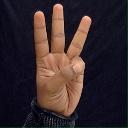hand: (33, 3, 92, 117)
